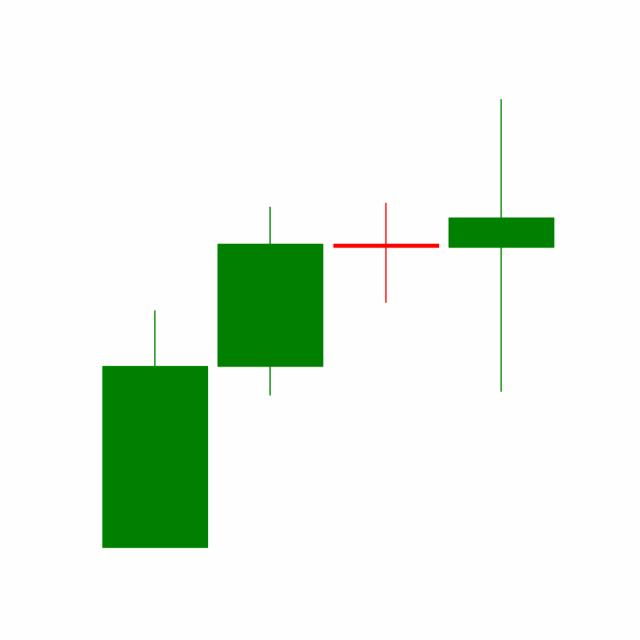Spinning Top: (443, 95, 559, 395)
